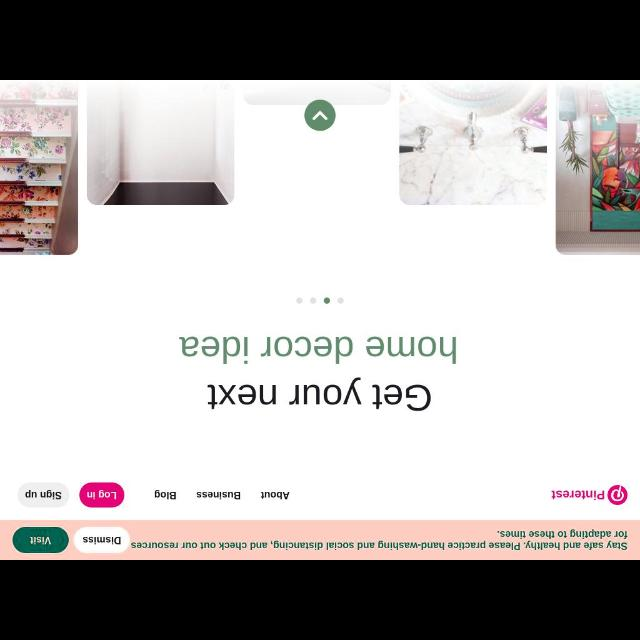button: (304, 100, 336, 130)
icon: (311, 110, 329, 122)
image: (1, 84, 637, 254), (606, 486, 628, 504)
pageindicator: (296, 296, 344, 304)
text: (131, 528, 627, 550), (175, 333, 459, 363), (208, 380, 434, 414), (550, 488, 604, 499), (196, 489, 240, 499), (26, 488, 60, 500), (84, 535, 120, 545), (88, 490, 119, 500), (262, 491, 290, 502), (28, 536, 50, 546), (154, 490, 176, 500)
textbutton: (12, 527, 68, 553), (75, 526, 129, 552), (18, 482, 70, 506), (79, 481, 125, 507)
